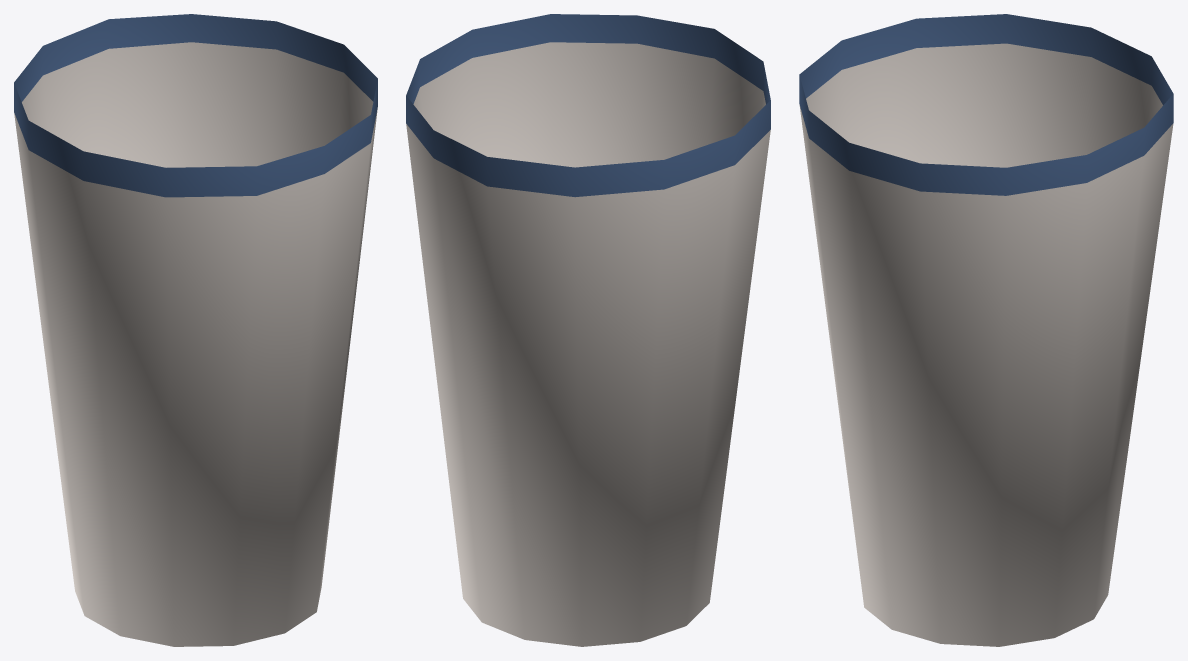
File: Copo.fbx
3 views of the same model, side by side, from view 1: azimuth 30°, elevation 25°; view 2: azimuth 150°, elevation 25°; view 3: azimuth 270°, elevation 25° (orthographic).
Visible parts, largest first — view 1: Cylinder; view 2: Cylinder; view 3: Cylinder.
Boxes of the visible parts, x1=… form: Cylinder: x1=14, y1=14, x2=377, y2=646; Cylinder: x1=406, y1=14, x2=770, y2=646; Cylinder: x1=799, y1=14, x2=1173, y2=646.
Size of the model in its own units: 14.19 by 21.78 by 14.66.
